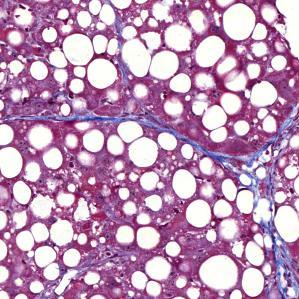fibrosis: (211, 147, 287, 198), (66, 110, 149, 129)
